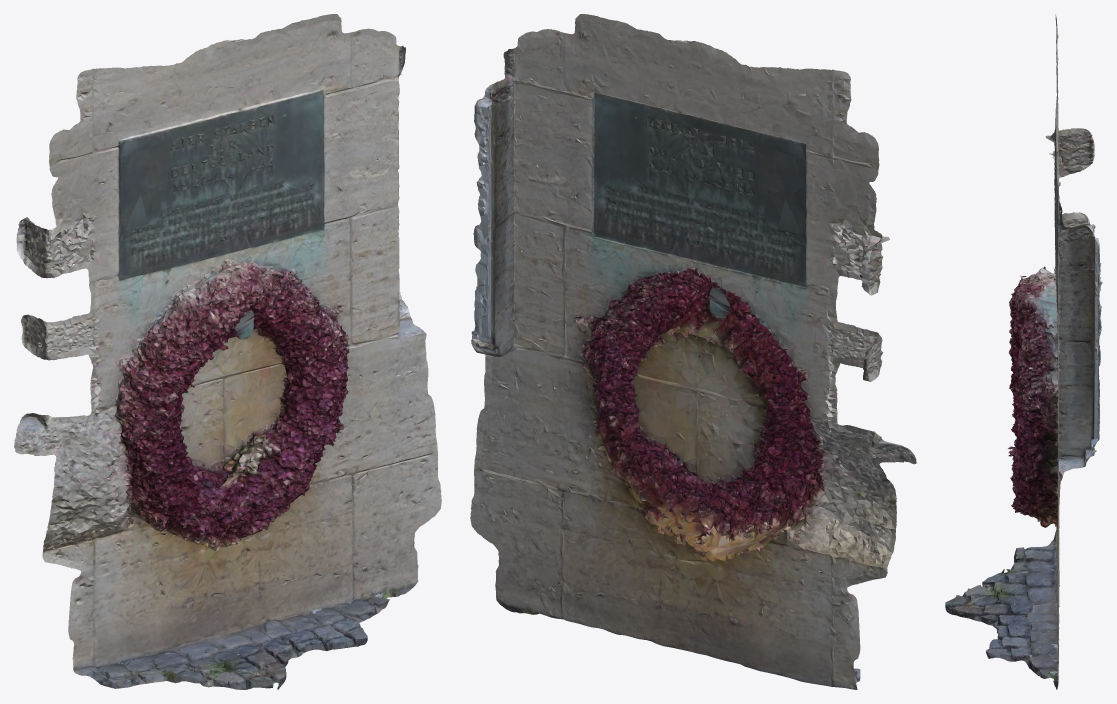
The picture shows the model from 3 angles, left to right: view 1: azimuth 30°, elevation 25°; view 2: azimuth 150°, elevation 25°; view 3: azimuth 270°, elevation 25°; orthographic projection. The views are drawn at different scales.
Parts seen in each view (by area): view 1: 512.25k; view 2: 512.25k; view 3: 512.25k.
Boxes of the visible parts, <box> form: 512.25k: <box>14,14,441,689</box>; 512.25k: <box>470,14,916,689</box>; 512.25k: <box>945,14,1102,689</box>.
Bounding box in the file's own units: 2.76 × 3.73 × 0.9865.
1 material, 1 textured.
